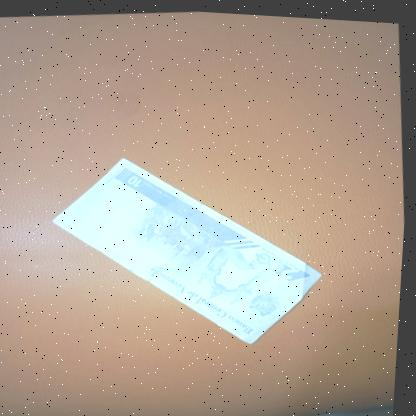ten-back-vef: (41, 136, 338, 364)
